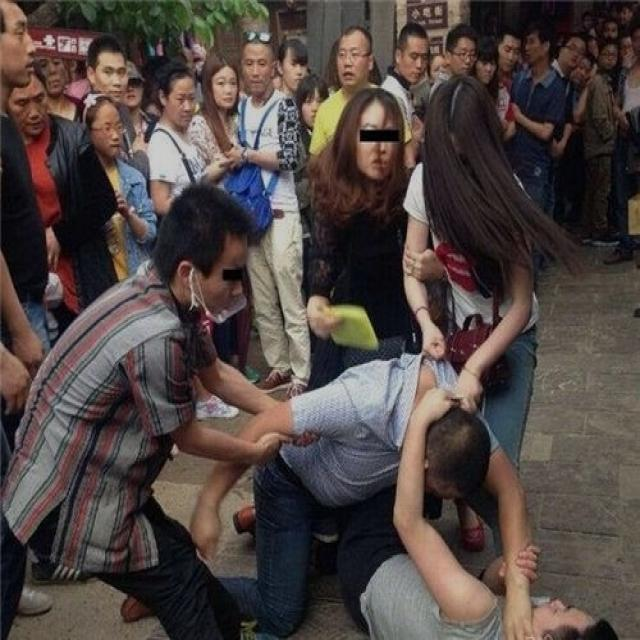fight: (122, 349, 620, 640)
non-fight: (3, 176, 320, 638), (393, 73, 544, 639)
